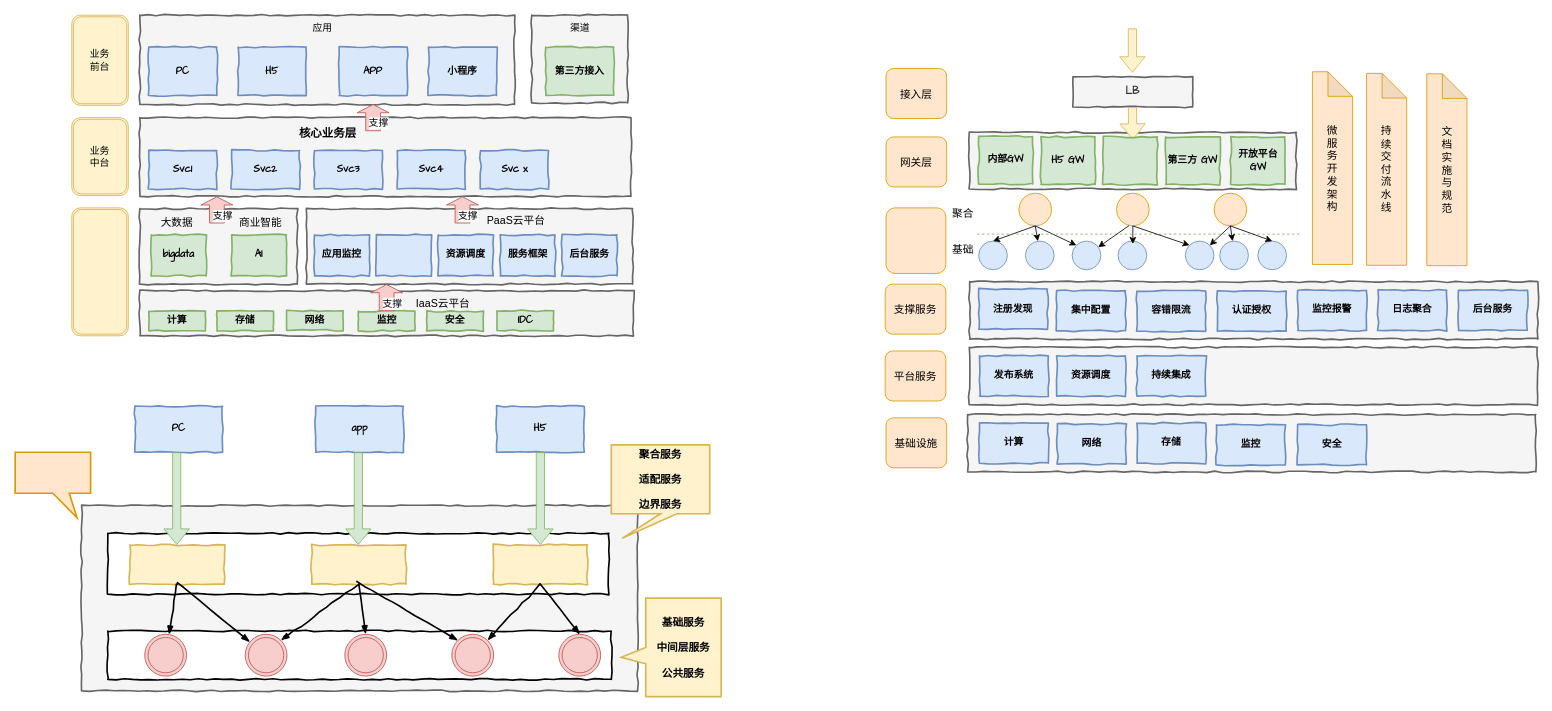
The diagram is 1552 pixels wide and 711 high, and some of its shapes have lost their labels. The shapes that lost their labels are listed below. From the top down, each one's centre as x and y in pixels, then its label:
At pixel 1130 160: "App GW".
At pixel 403 255: "持续交付".
At pixel 915 240: "业务服务层".
At pixel 99 271: "技术 中台".
At pixel 52 484: "微服务 / SOA".
At pixel 177 564: "web bff".
At pixel 358 564: "app bff".
At pixel 540 564: "H5 bff".
